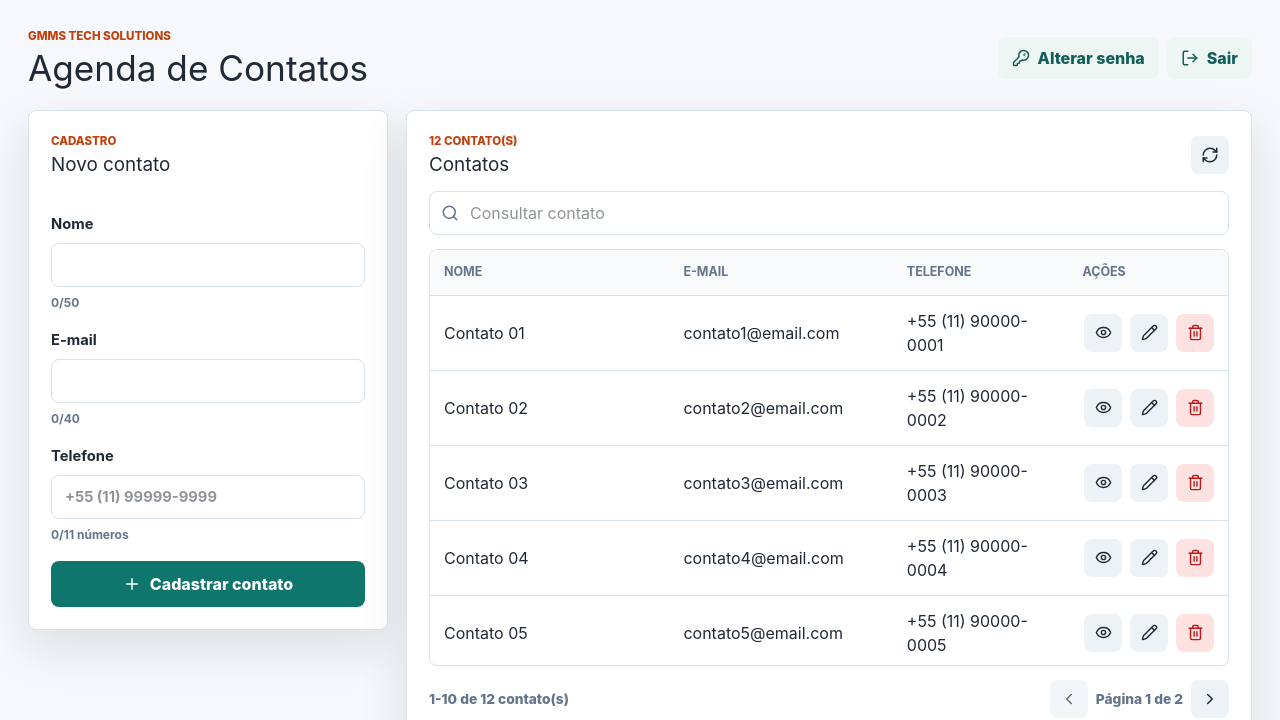
Test case: ContactsView › pagina a lista exibindo 10 contatos por vez
The image size is (1280, 720).
Expected: the row "Contato 01 contato1@email.com +55 (11) 90000-0001" is shown, [430,295,1228,370]
Click the button named "Próxima página" at (1210,700), box [1191,680,1229,718]
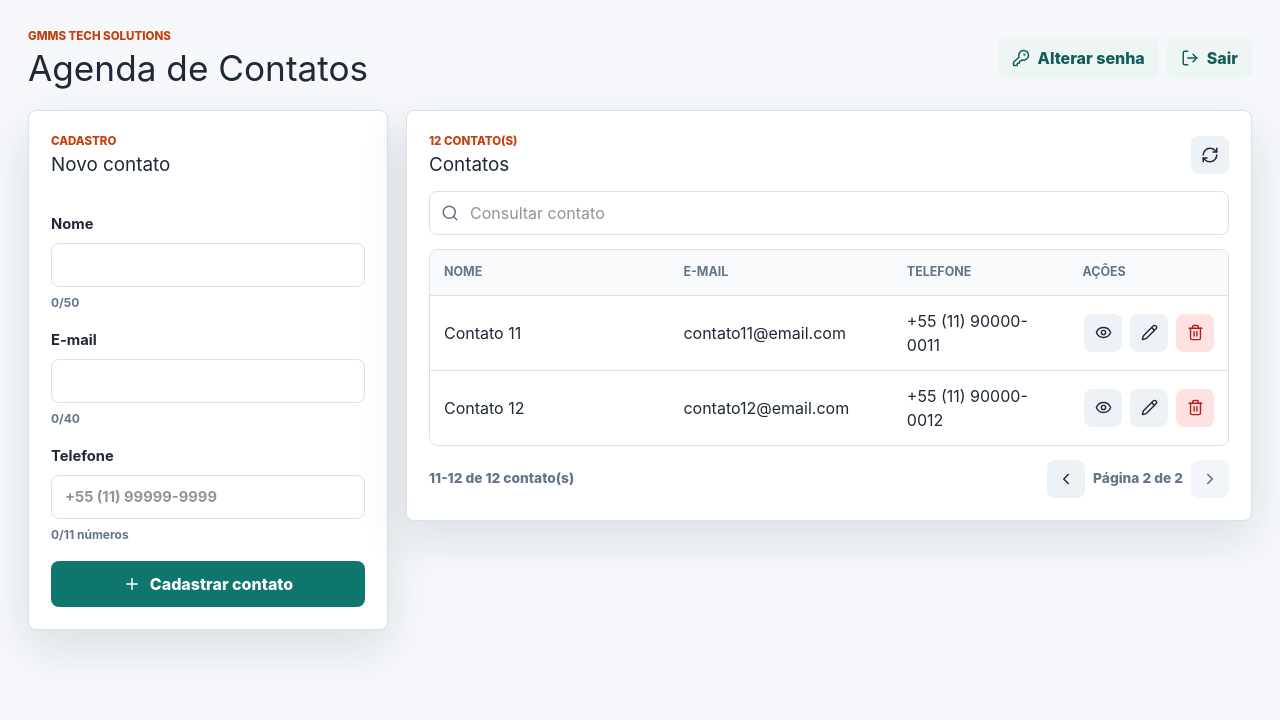
Now the row "Contato 11 contato11@email.com +55 (11) 90000-0011" is shown, box [430,295,1228,370]
Now the row "Contato 12 contato12@email.com +55 (11) 90000-0012" is shown, box [430,370,1228,445]
Now the text "11-12 de 12 contato(s)" is shown, box [429,468,574,489]
